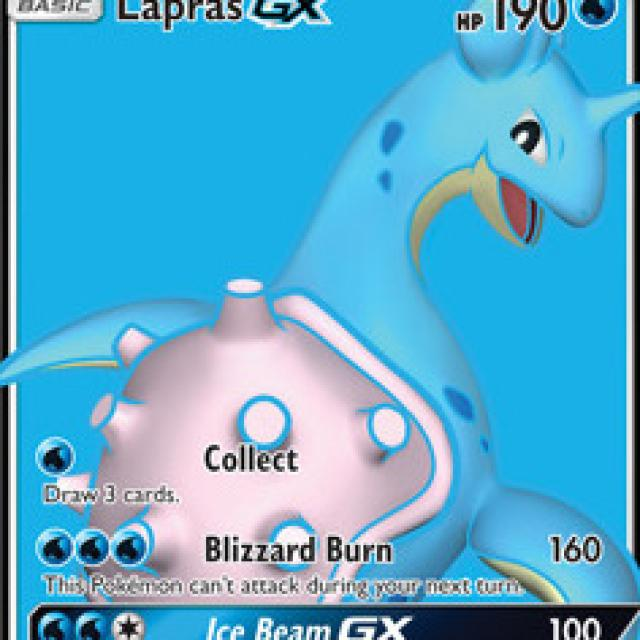Lapras: (101, 21, 638, 601)
